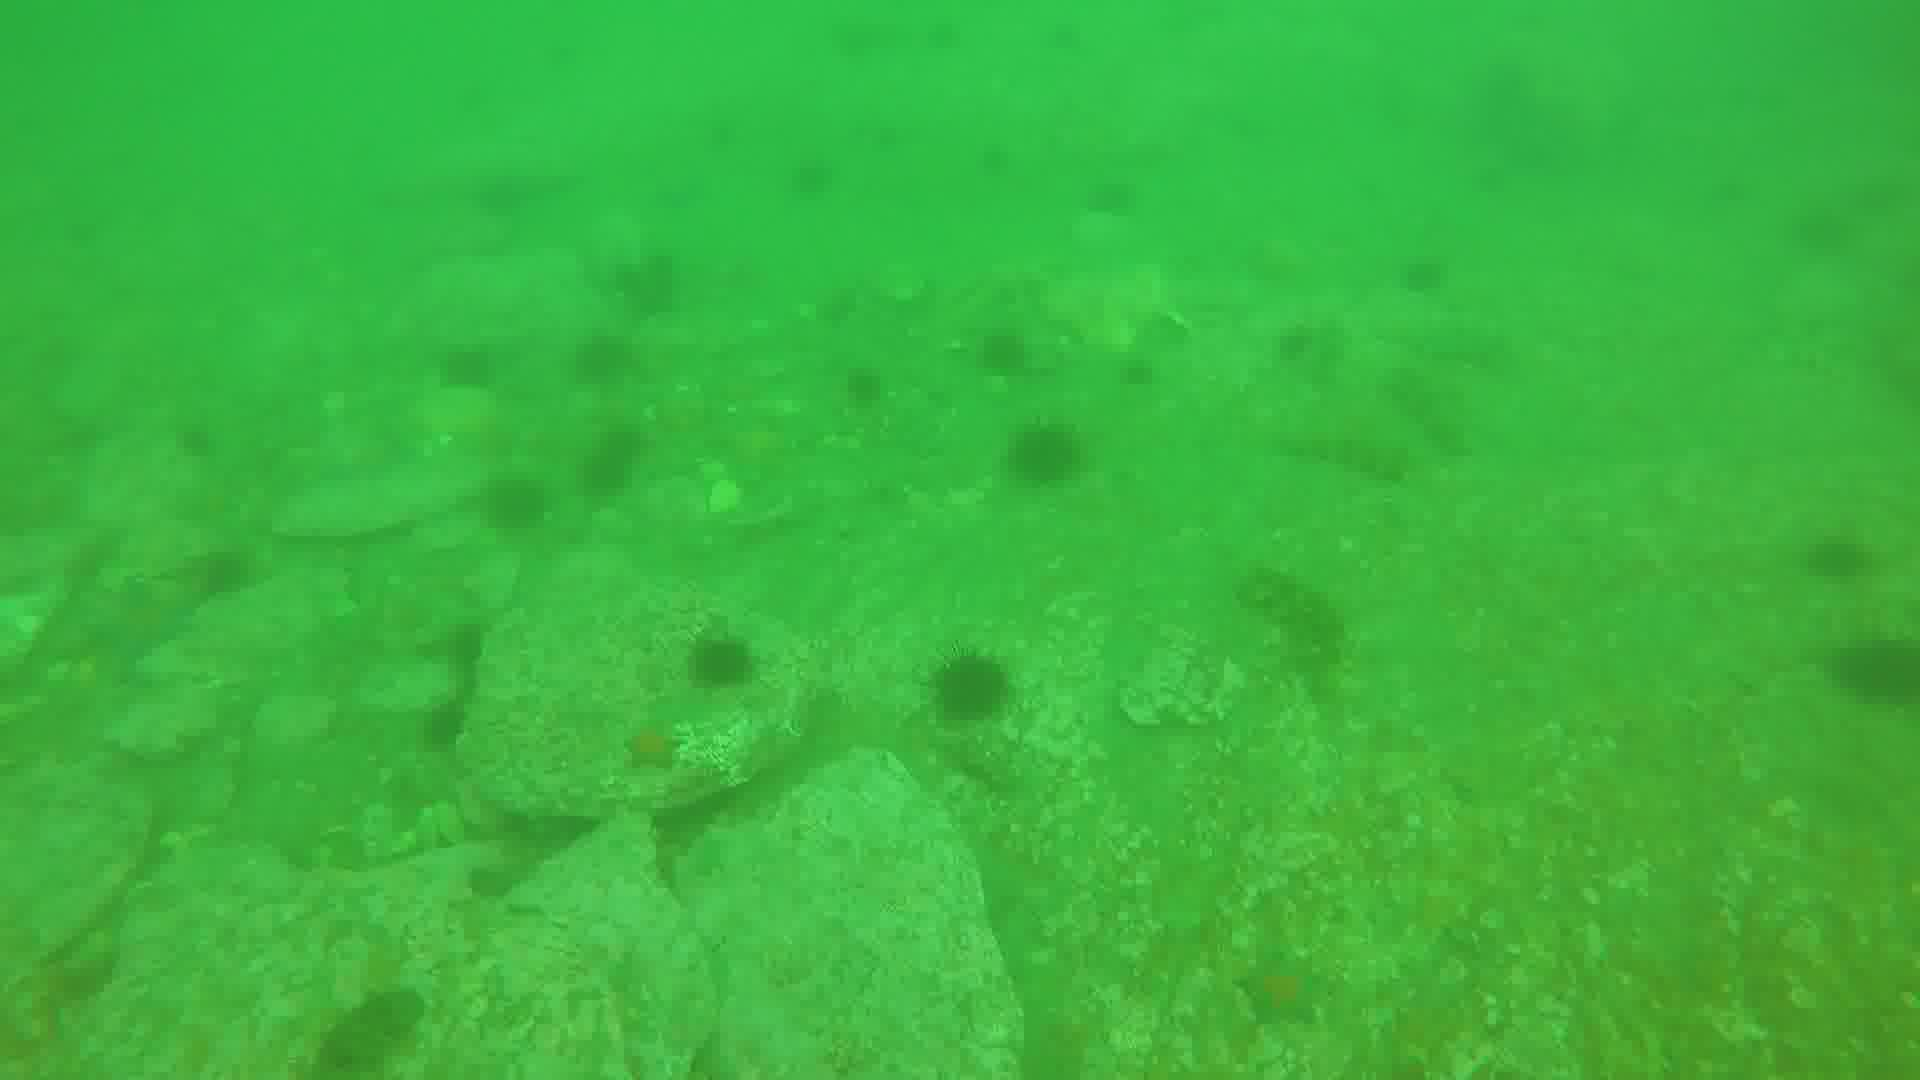echinus: (1838, 640, 1920, 711), (931, 654, 1007, 729), (1004, 429, 1091, 487), (483, 481, 556, 531), (1803, 542, 1887, 585), (570, 334, 636, 385), (692, 644, 761, 688), (626, 269, 687, 319), (200, 551, 260, 597), (575, 447, 626, 500), (980, 336, 1038, 377), (446, 344, 493, 393), (789, 158, 843, 200), (603, 423, 646, 473), (848, 369, 889, 407), (1403, 257, 1449, 290), (179, 425, 222, 458)
holothurian: (1228, 564, 1356, 716), (307, 998, 427, 1080), (1274, 415, 1408, 484), (1379, 369, 1474, 458)
starfish: (1241, 959, 1331, 1029), (625, 723, 683, 773)
